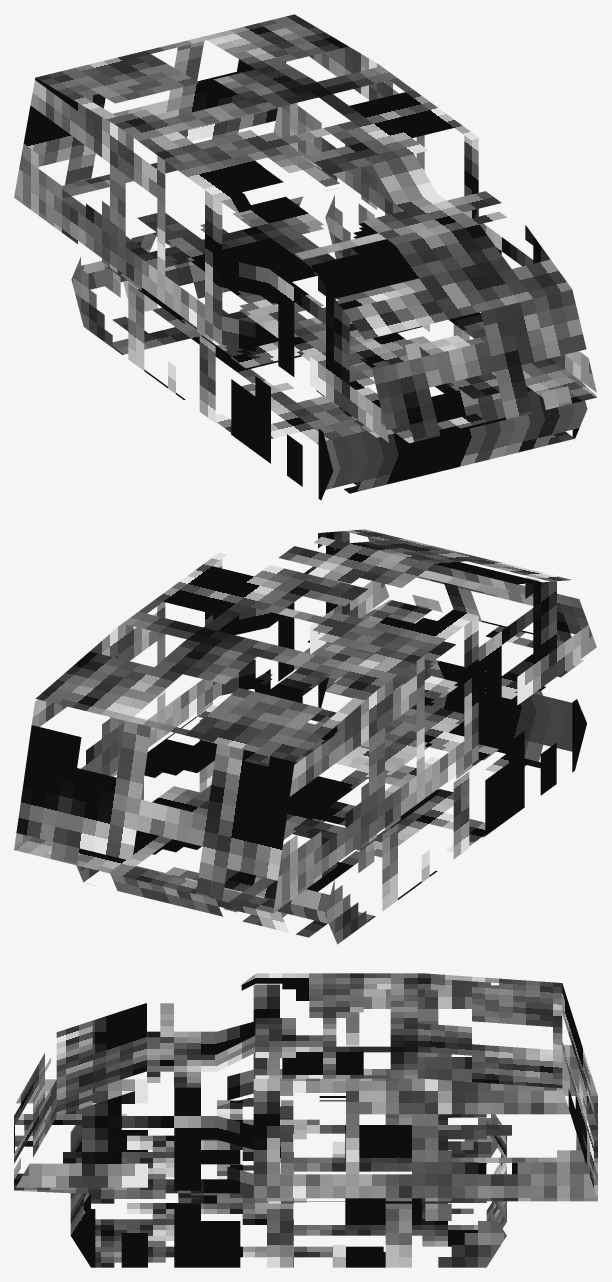
Rendered from ambulanceprop_dam.glb.
3 views of the same model, one above another, from view 1: azimuth 30°, elevation 25°; view 2: azimuth 150°, elevation 25°; view 3: azimuth 270°, elevation 25° (orthographic). The views are drawn at different scales.
Parts seen in each view (by area): view 1: AmbulanceL1; view 2: AmbulanceL1; view 3: AmbulanceL1.
Boxes of the visible parts, bbox=[...] form: AmbulanceL1: bbox=[14, 14, 597, 500]; AmbulanceL1: bbox=[14, 529, 596, 944]; AmbulanceL1: bbox=[14, 973, 597, 1267].
Size of the model in its own units: 3.19 by 2.68 by 7.47.
Materials: 1 (1 with a texture image).
